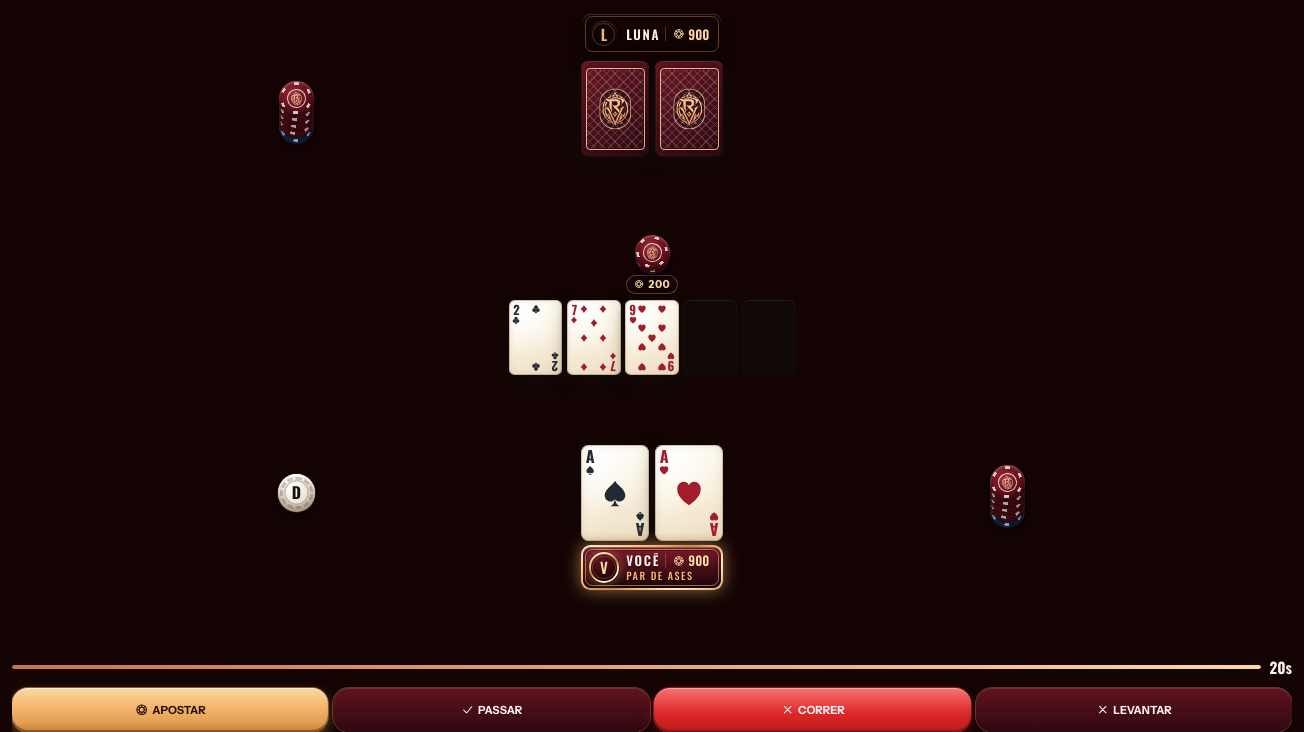
Scenario: PokerArena — a barra de apostas › o painel de aumento cobre a fileira e abre com o campo VAZIO
Step 1. Click the button with test id "action-raise" → (170,710), box [12,688,328,731]
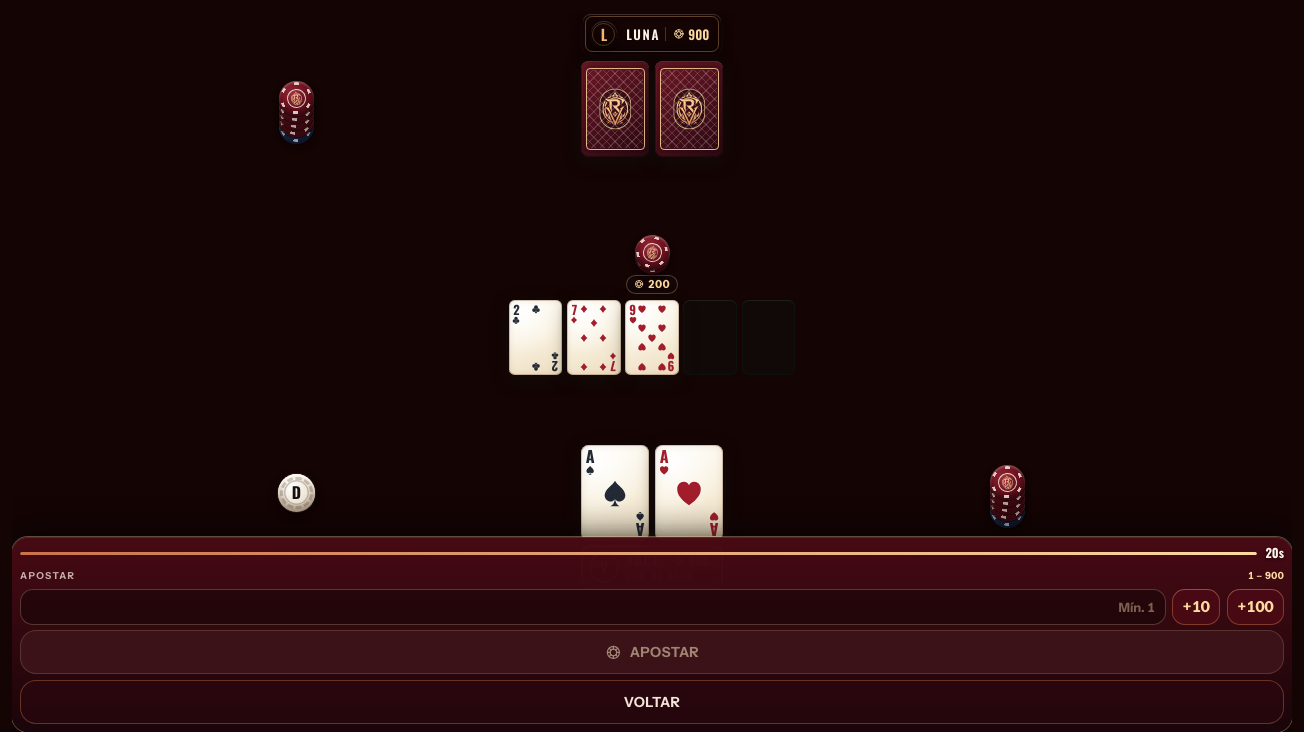
Expected: the form with test id "raise-panel" is shown, [12,537,1292,731]
Expected: the button with test id "action-check" is gone
Expected: the field with test id "raise-input" is empty, [20,589,1166,625]
